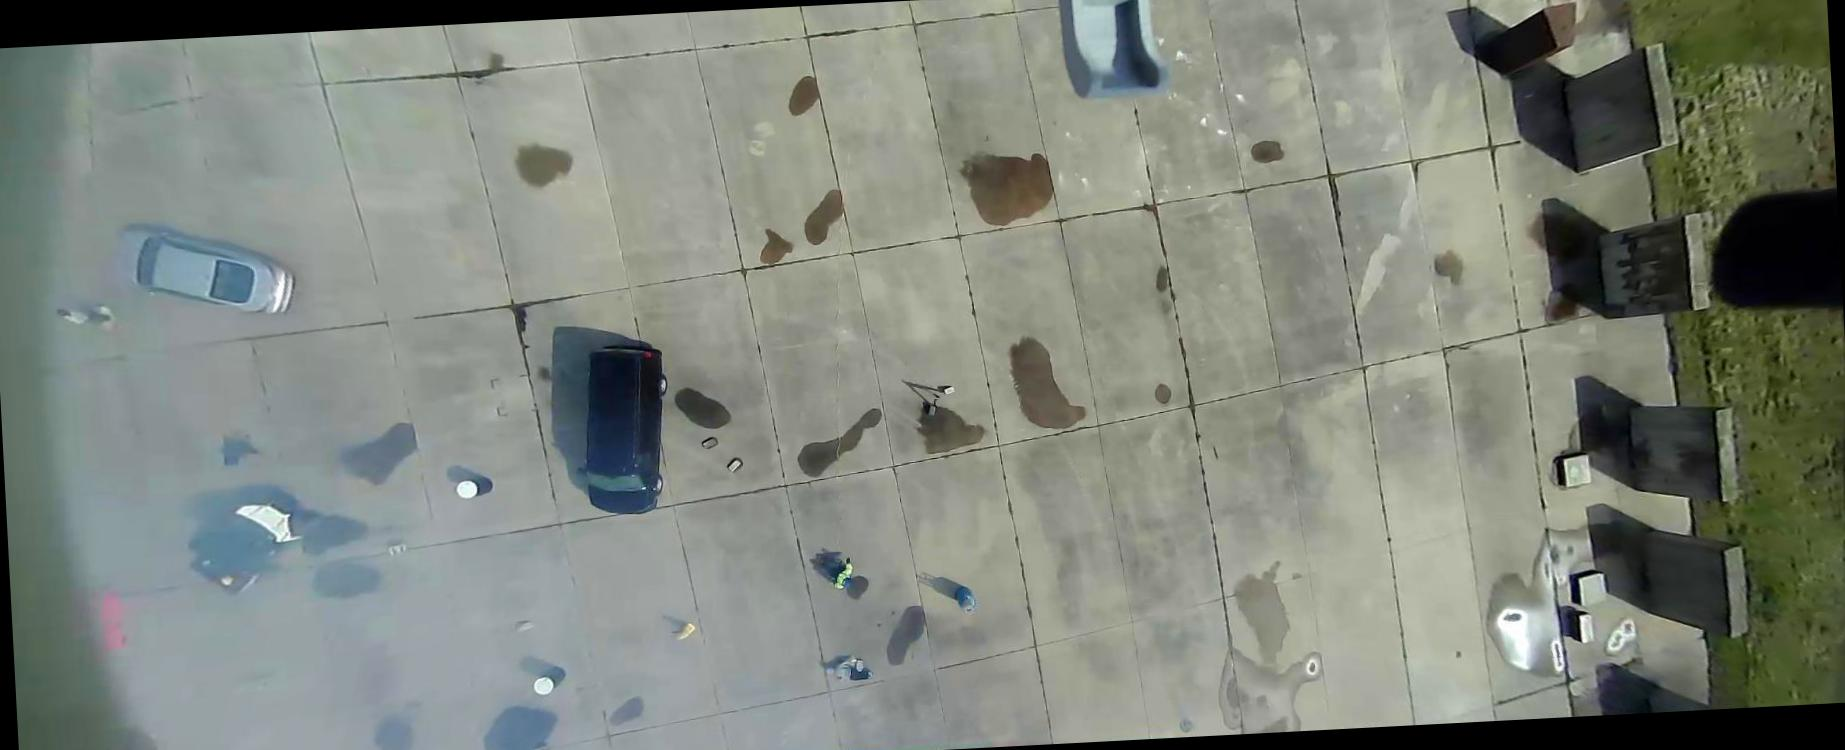vehicle: (111, 215, 297, 325), (571, 341, 674, 518), (186, 498, 299, 596)
